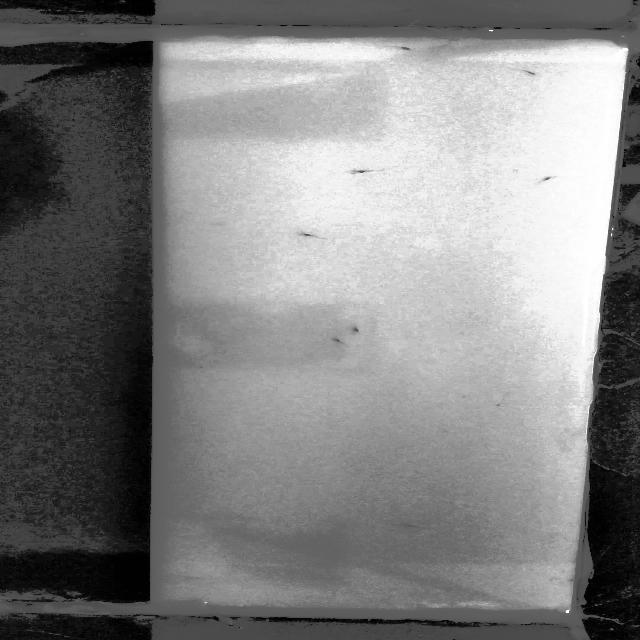shrimp: (343, 165, 386, 177), (391, 44, 414, 56), (293, 229, 315, 240), (398, 521, 420, 532), (533, 173, 557, 183), (347, 323, 363, 334), (326, 337, 345, 344)
